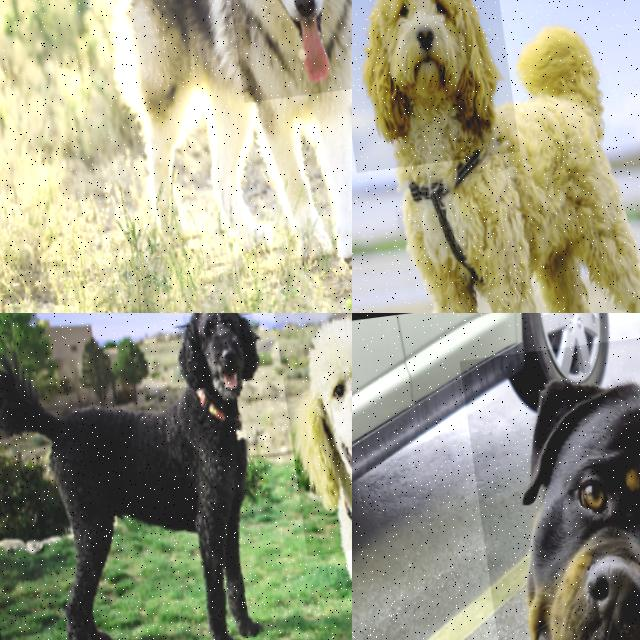husky: (207, 0, 352, 103)
poodle: (352, 0, 519, 173), (135, 313, 285, 454), (272, 313, 352, 556)
rottweiler: (458, 316, 640, 640)
